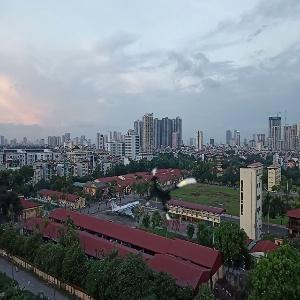drone: (140, 163, 202, 225)
